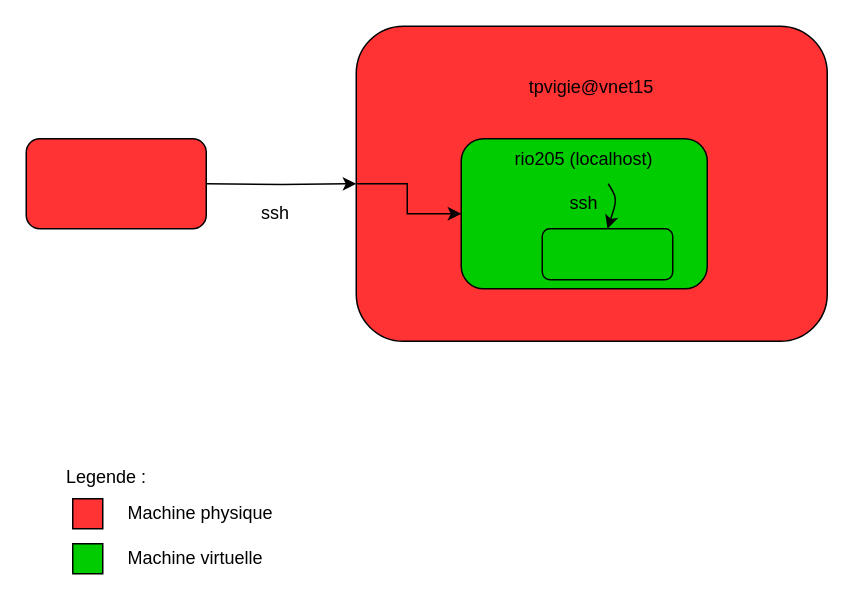
The diagram is 854 pixels wide and 600 high, and some of its shapes have lost their labels. The shapes that lost their labels are listed below. From the top down, each one's centre as x and y in pixels, then its label:
At (115,183): "c132".
At (607,253): "VirtualBox".
